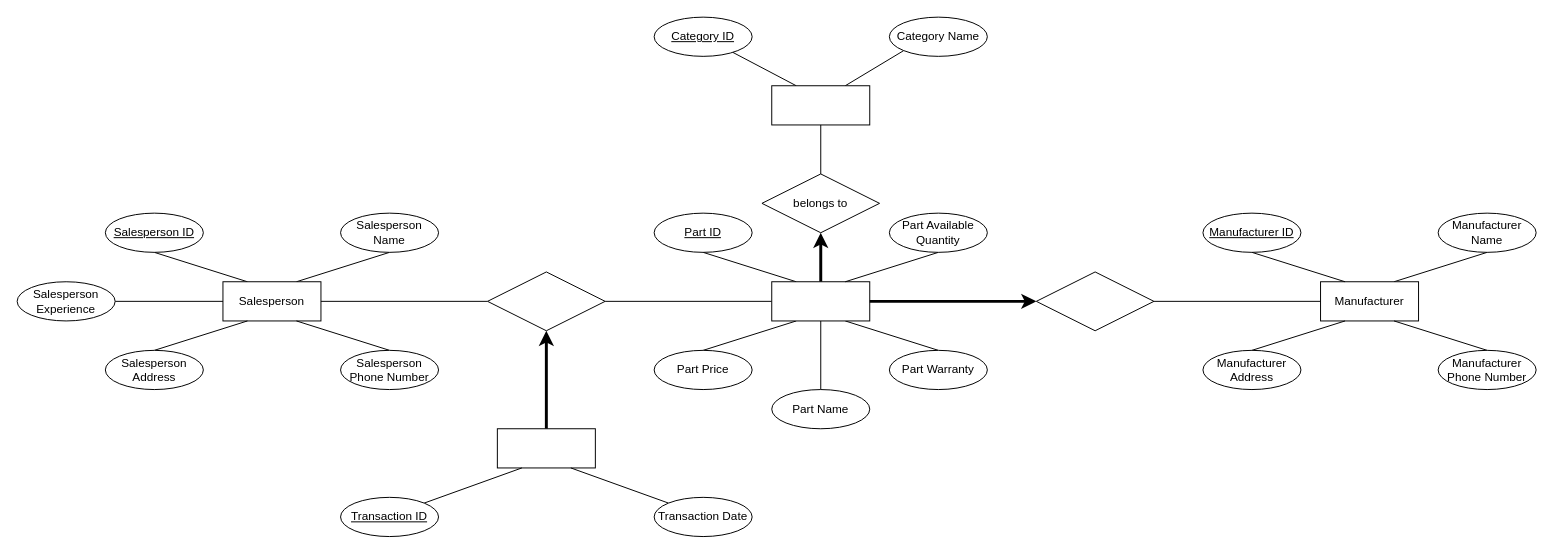
Image size: 1553x554. Some labels were removed from this diagram. Each missing label, with the centre of its shape:
Category: (x=820, y=105)
Computer Part: (x=820, y=301)
produce by: (x=1094, y=301)
sell: (x=546, y=301)
Transaction Record: (x=545, y=448)
